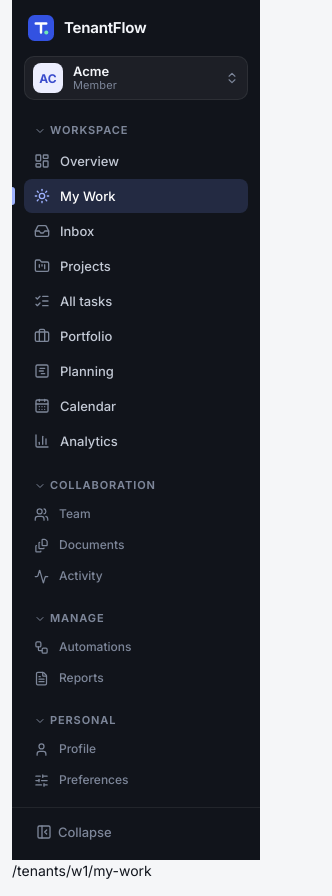
Test: Sidebar › switches workspace with the role shown and lands on its overview
Click the button with aria-label "Workspace: Acme, your role Member" at (136, 78), box [24,56,248,100]
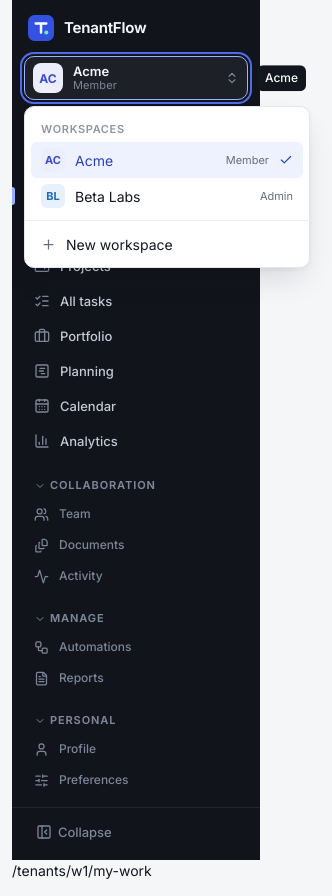
Click the button "BL Beta Labs Admin" at (108, 196), box [31,178,303,214]
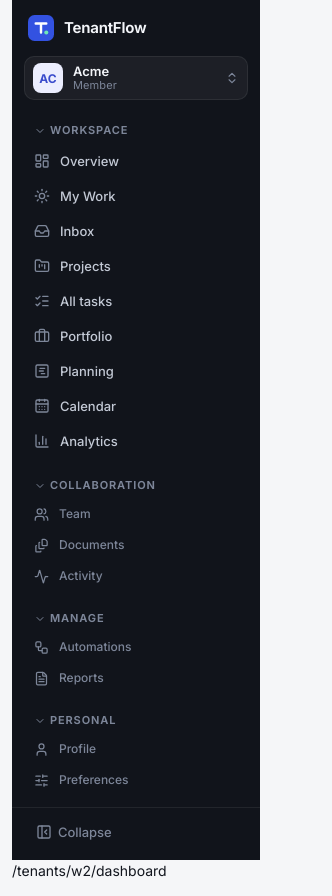
Now the text with test id "where" reads "/tenants/w2/dashboard", box [12,862,167,879]
